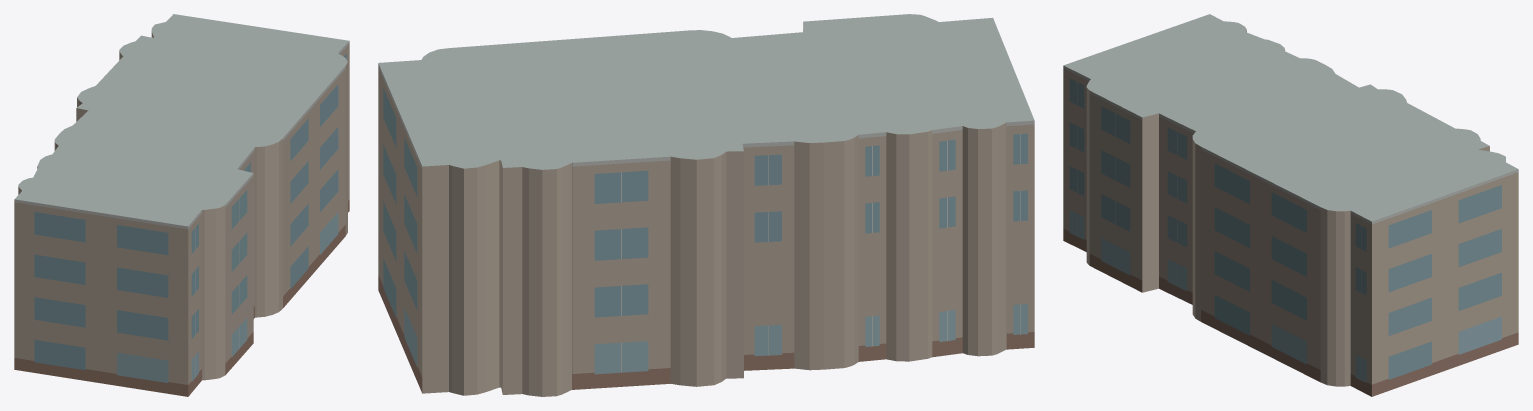
The model's file is survey-upis-32901722.glb.
The picture shows the model from 3 angles, left to right: view 1: azimuth 30°, elevation 25°; view 2: azimuth 150°, elevation 25°; view 3: azimuth 270°, elevation 25°; orthographic projection. The views are drawn at different scales.
Parts seen in each view (by area): view 1: survey-upis-32901722.tmp; view 2: survey-upis-32901722.tmp; view 3: survey-upis-32901722.tmp.
Part boxes in pixels (bbox=[...]): survey-upis-32901722.tmp: bbox=[14, 14, 349, 396]; survey-upis-32901722.tmp: bbox=[378, 14, 1034, 396]; survey-upis-32901722.tmp: bbox=[1063, 14, 1518, 396].
Bounding box in the file's own units: 36.85 × 14.5 × 34.16.
